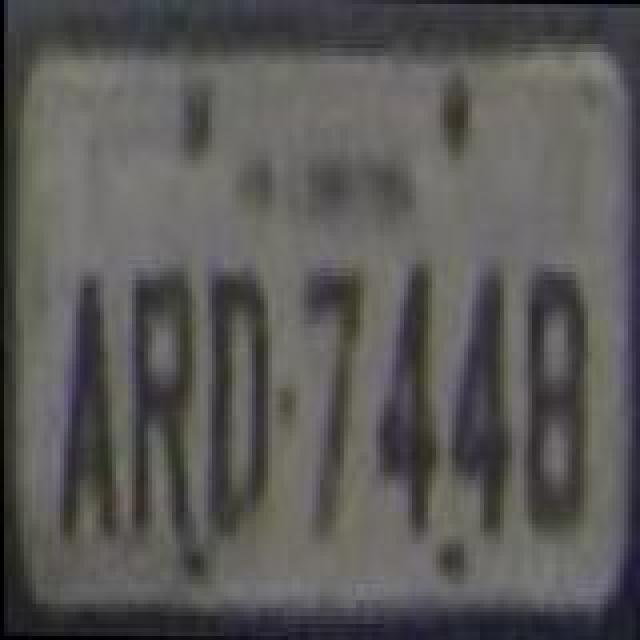4: (444, 260, 516, 536), (374, 260, 442, 544)
7: (298, 270, 358, 546)
8: (516, 262, 588, 546)
A: (58, 274, 118, 550)
D: (204, 268, 276, 544)
R: (124, 272, 196, 540)
